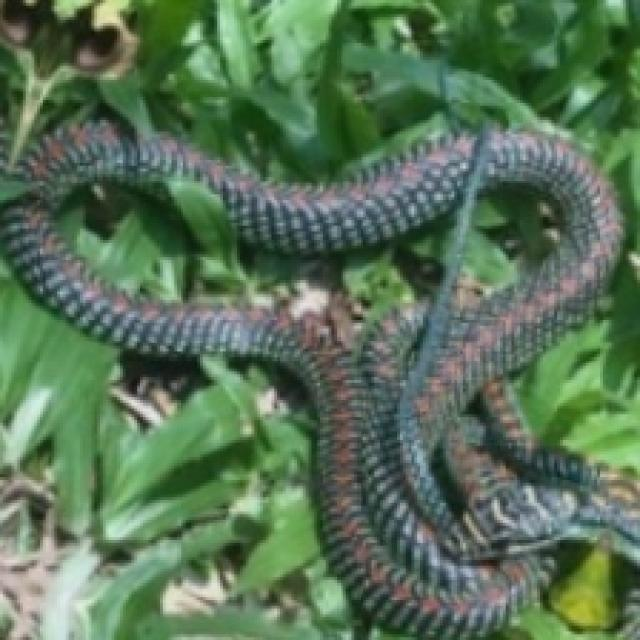paradise tree snake: (3, 123, 637, 637)
